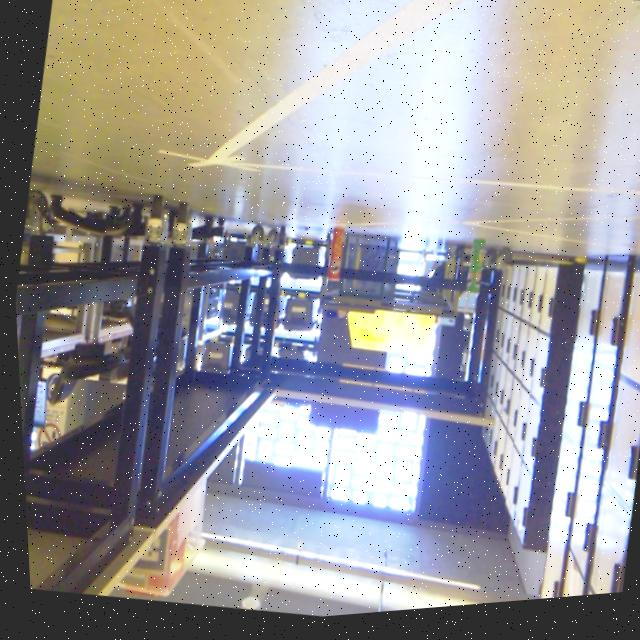greenpringles: (449, 242, 490, 305)
redpringles: (311, 219, 356, 298)
